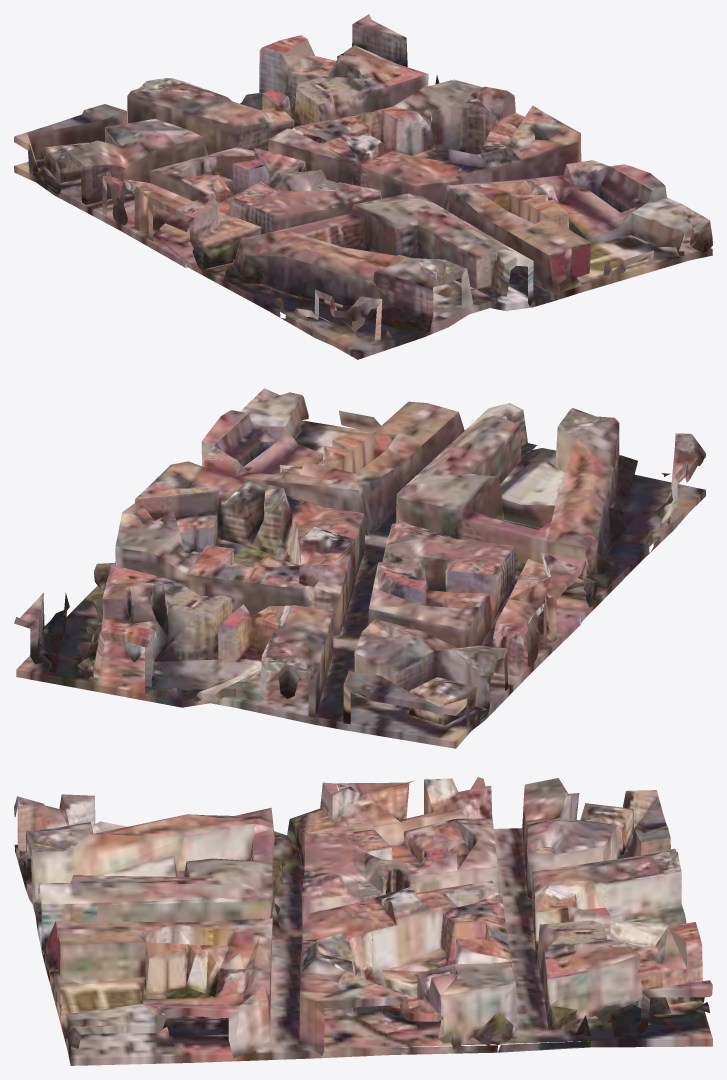
The picture shows the model from 3 angles, top to bottom: view 1: azimuth 30°, elevation 25°; view 2: azimuth 150°, elevation 25°; view 3: azimuth 270°, elevation 25°; orthographic projection. The views are drawn at different scales.
Visible parts, largest first — view 1: Mesh_0; view 2: Mesh_0; view 3: Mesh_0.
Part boxes in pixels (left/top/right/bottom): Mesh_0: left=14, top=14, right=712, bottom=359; Mesh_0: left=14, top=388, right=705, bottom=748; Mesh_0: left=14, top=777, right=712, bottom=1065.
Bounding box in the file's own units: 266 × 44.41 × 330.
Materials: 2 (2 with a texture image).
